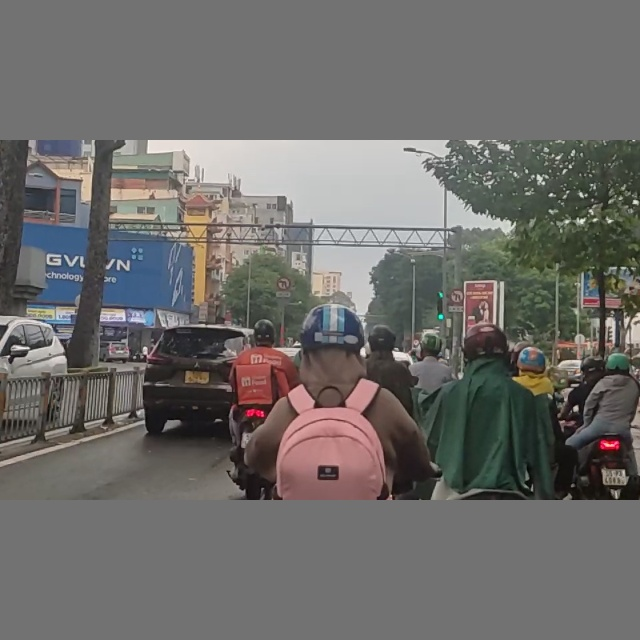P.124c: (449, 290, 464, 305), (277, 277, 292, 291)
